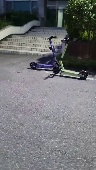beam: (30, 34, 59, 70)
gcooter: (56, 37, 88, 79)
